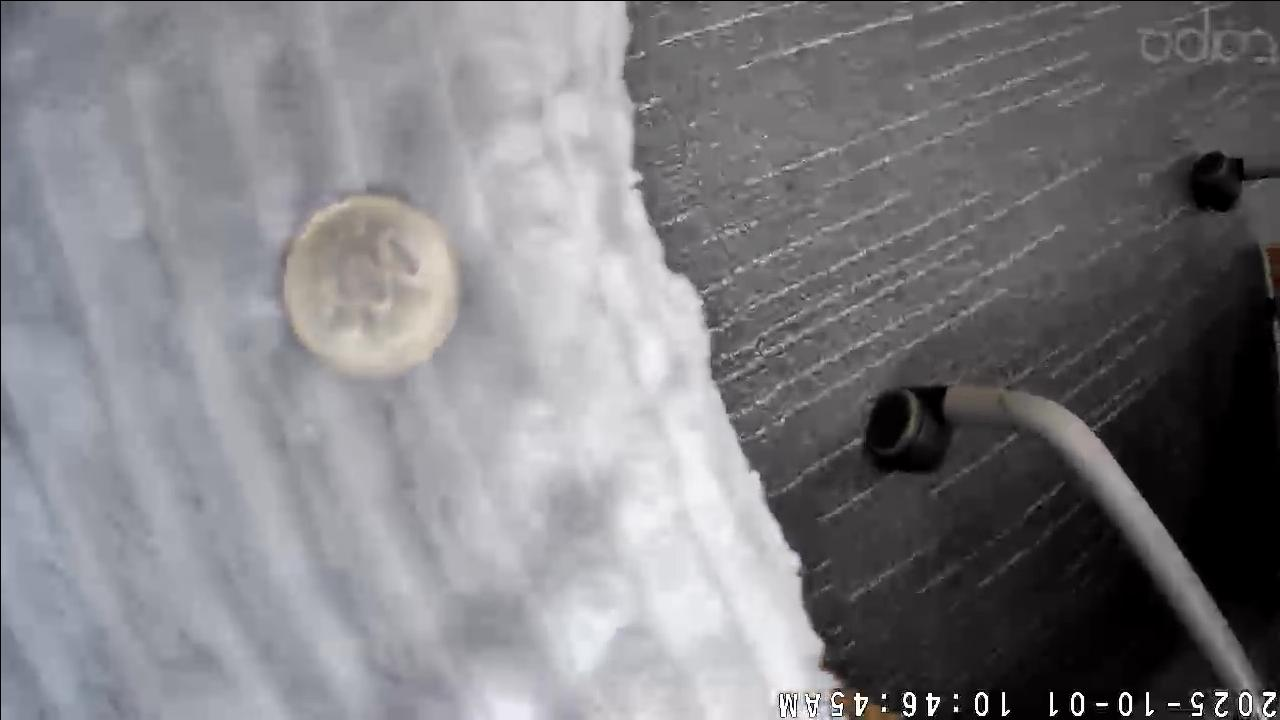coin: (281, 186, 465, 384)
